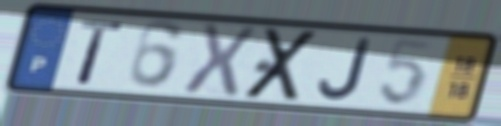5: (376, 36, 438, 110)
6: (124, 17, 187, 96)
J: (316, 36, 375, 104)
T: (74, 17, 126, 88)
X: (239, 26, 325, 103), (178, 21, 260, 99)
